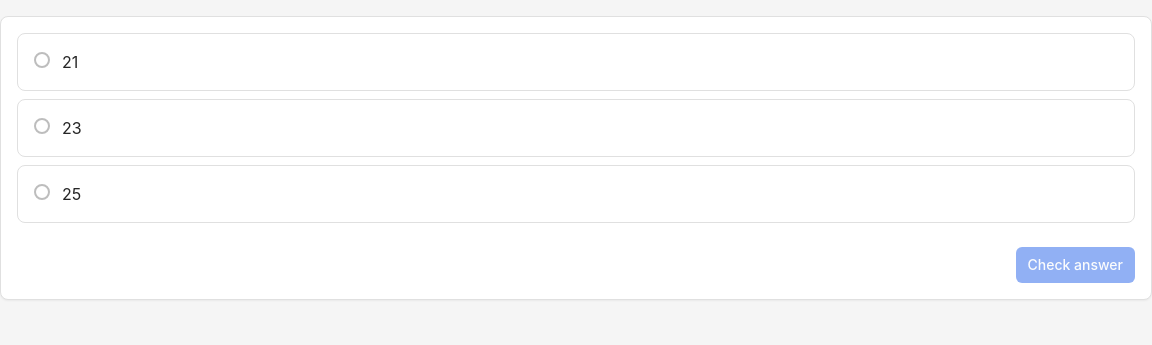
Test: check mode (non-exam default) › a correct check finishes the question regardless of attempts left
The width and height of the screenshot is (1152, 345).
Step 1. Click the radio button "23" → (576, 128), box x1=17 y1=99 x2=1135 y2=157
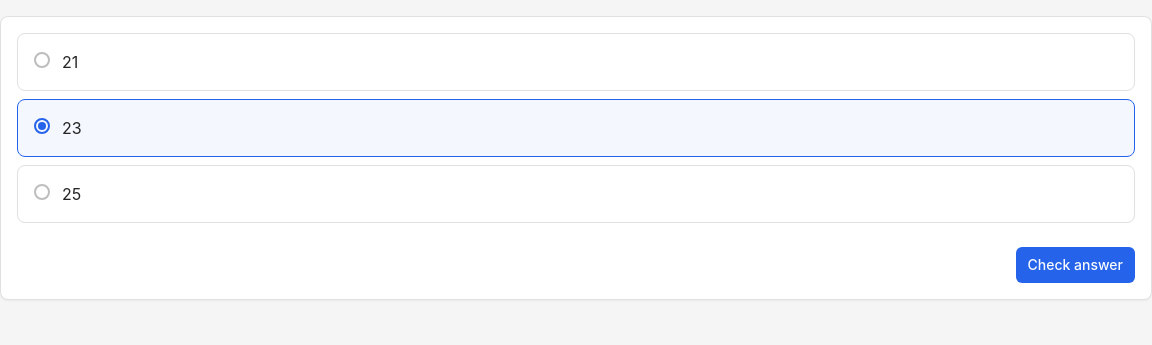
Step 2. Click the button "Check answer" → (1075, 265), box x1=1016 y1=247 x2=1135 y2=283
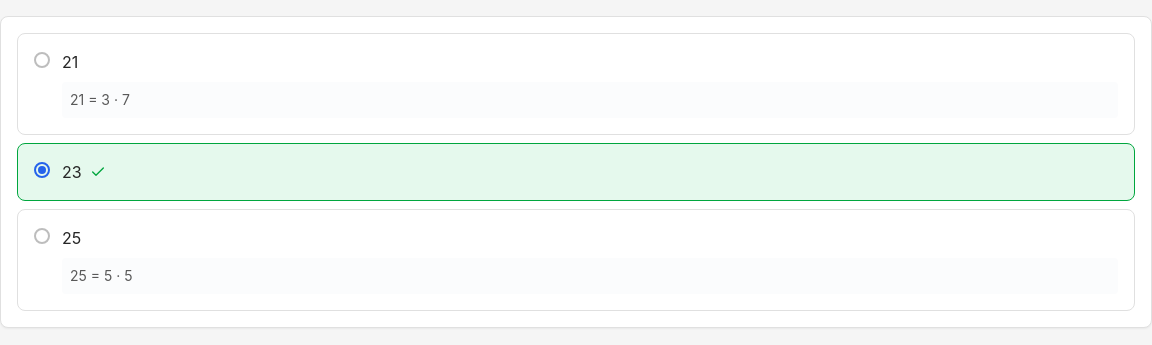
Expected: the button "Check answer" is gone
